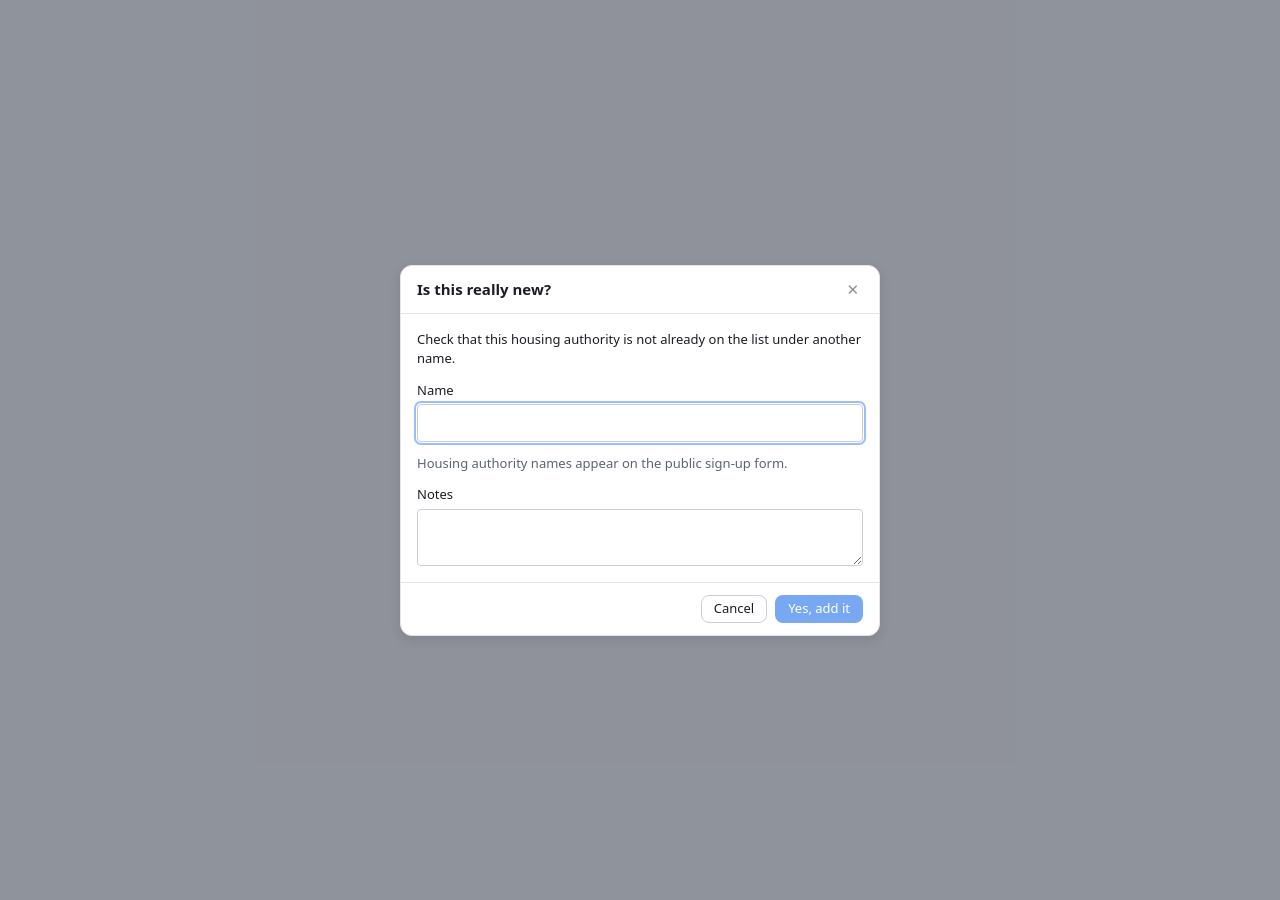
Test case: NewOrgDialog ("Is this really new?") › settings mode starts empty, checks what staff type, and lists names already on the list without Use
The image size is (1280, 900).
Expected: the button "Yes, add it" is disabled, [775,594,863,622]
Step 1. Type "Atlnta Housing" into the field labelled "Name" → (640, 423), box [417,404,863,442]
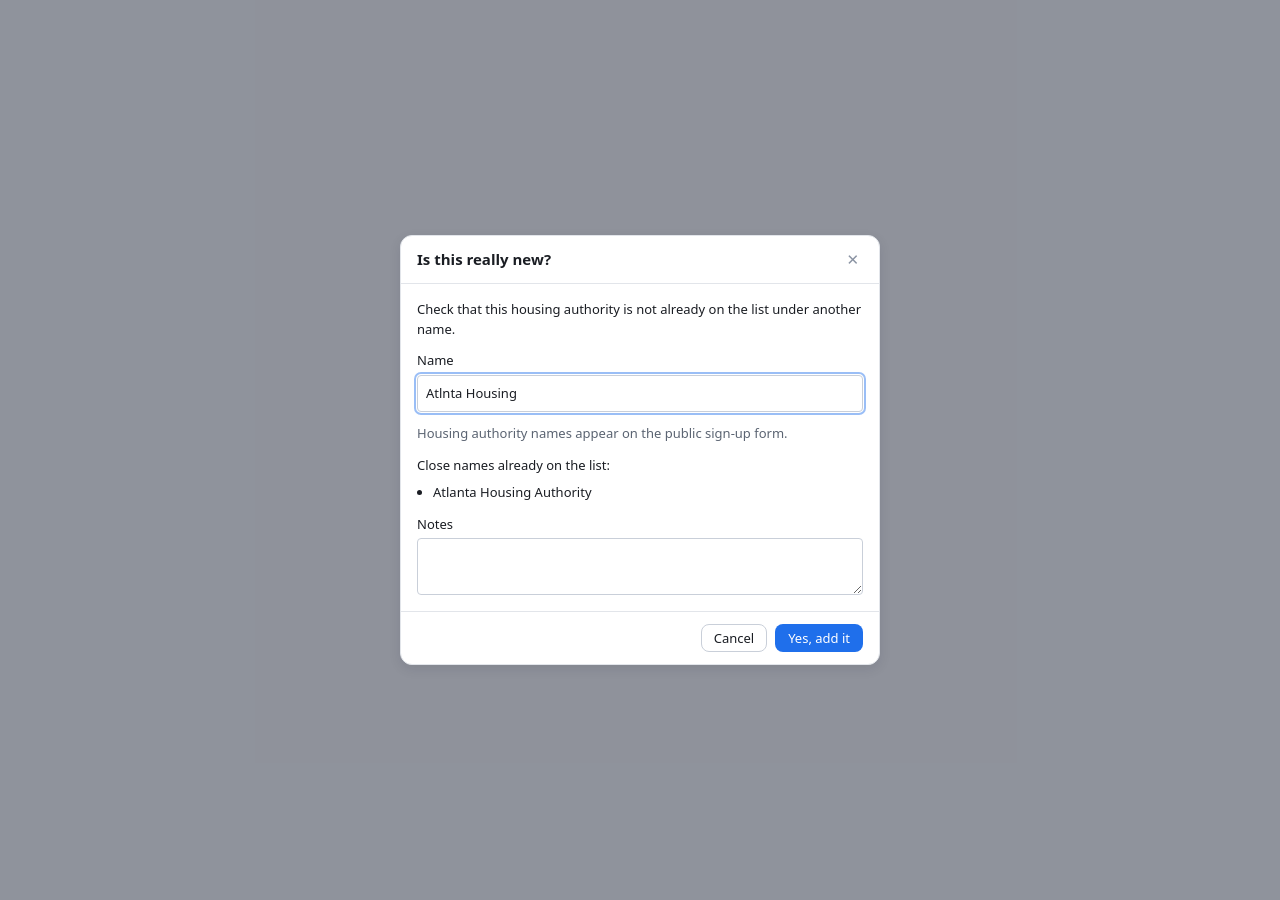
Expected: the list item "Atlanta Housing Authority" is shown, [433,483,592,501]
Expected: the button "Yes, add it" is enabled, [775,624,863,652]
